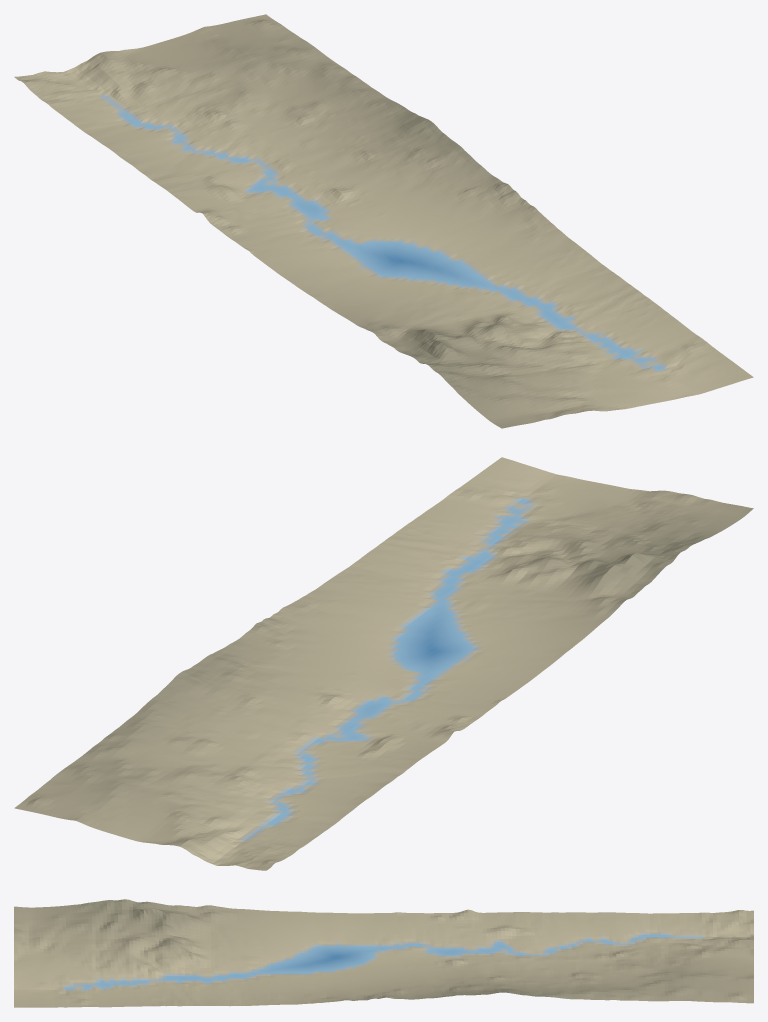
The model's file is lake_mohave_nv.glb.
The picture shows the model from 3 angles, top to bottom: view 1: azimuth 30°, elevation 25°; view 2: azimuth 150°, elevation 25°; view 3: azimuth 270°, elevation 25°; orthographic projection. The views are drawn at different scales.
Visible parts, largest first — view 1: terrain, water; view 2: terrain, water; view 3: terrain, water.
Part boxes in pixels (x1=…): terrain: x1=14, y1=14, x2=753, y2=428; water: x1=120, y1=112, x2=663, y2=370; terrain: x1=14, y1=457, x2=753, y2=870; water: x1=268, y1=499, x2=528, y2=825; terrain: x1=14, y1=899, x2=753, y2=1007; water: x1=66, y1=935, x2=668, y2=989.
Size of the model in its own units: 21292 by 2144 by 71339.
